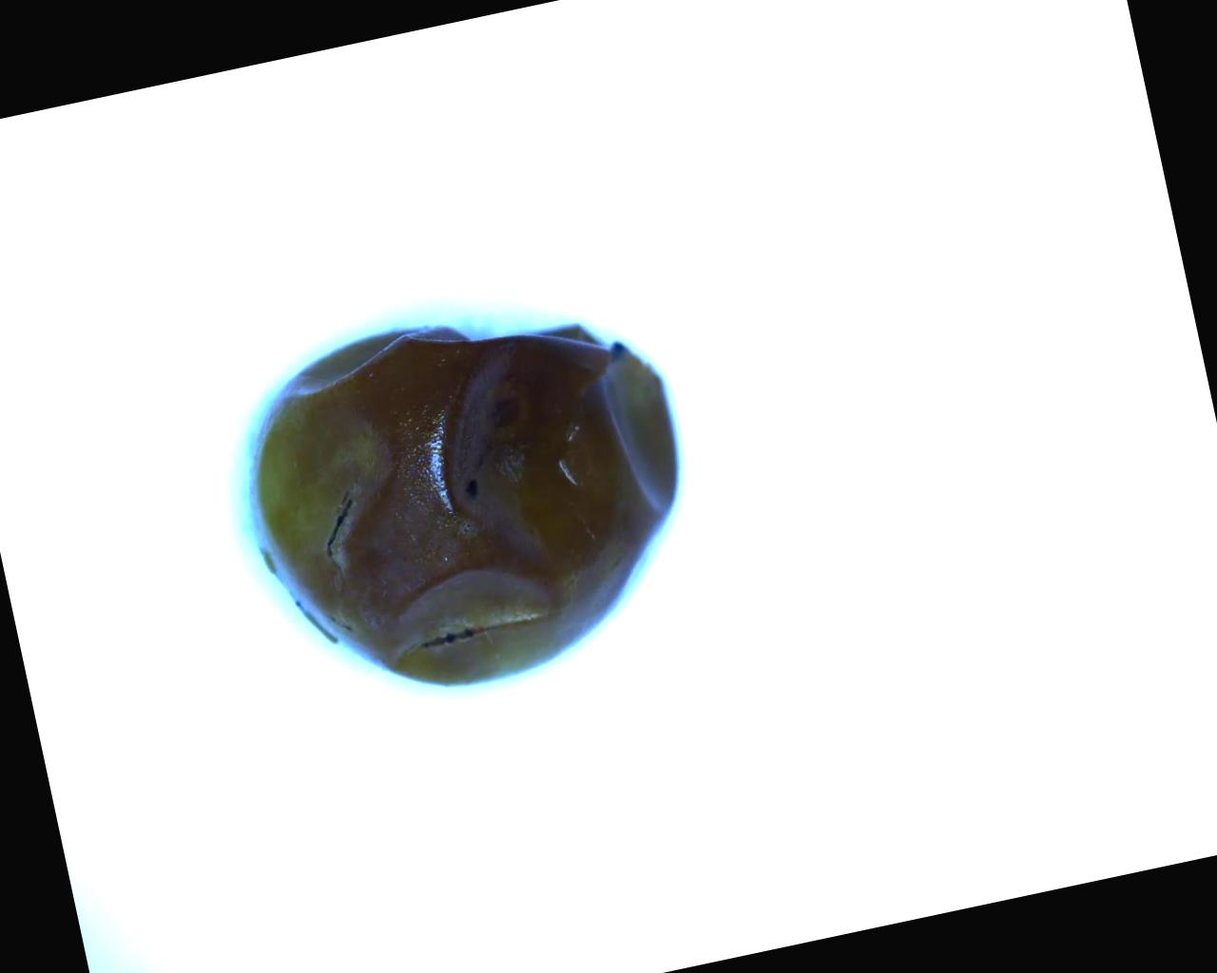Grape Rotten: (215, 273, 720, 724)
